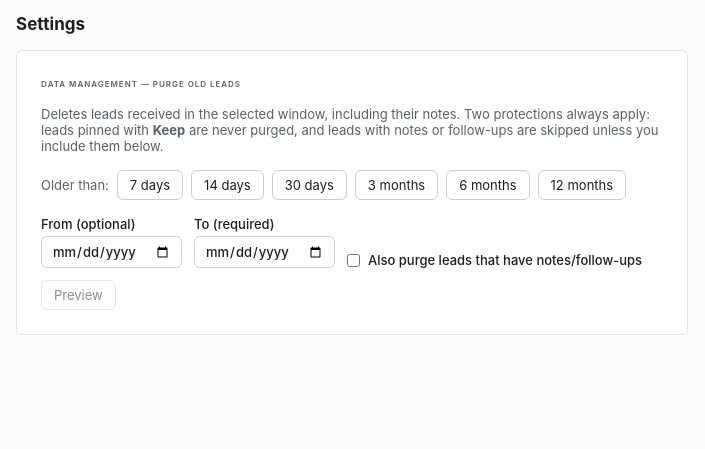
it: SettingsPage quick presets › explains an empty window instead of looking broken
This screenshot has width=705, height=449.
What coordinates should you click on to do the following:
click the button "3 months"
I would click on:
 (396, 185)
Its box is 355,170 -> 438,200.
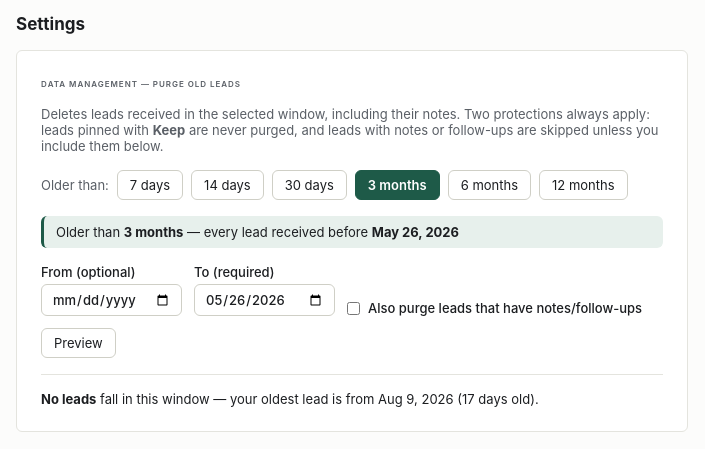
Expected: the text "No leads" is shown, 41,391 -> 96,407
Expected: the text "oldest lead is from" is shown, 210,391 -> 378,407
